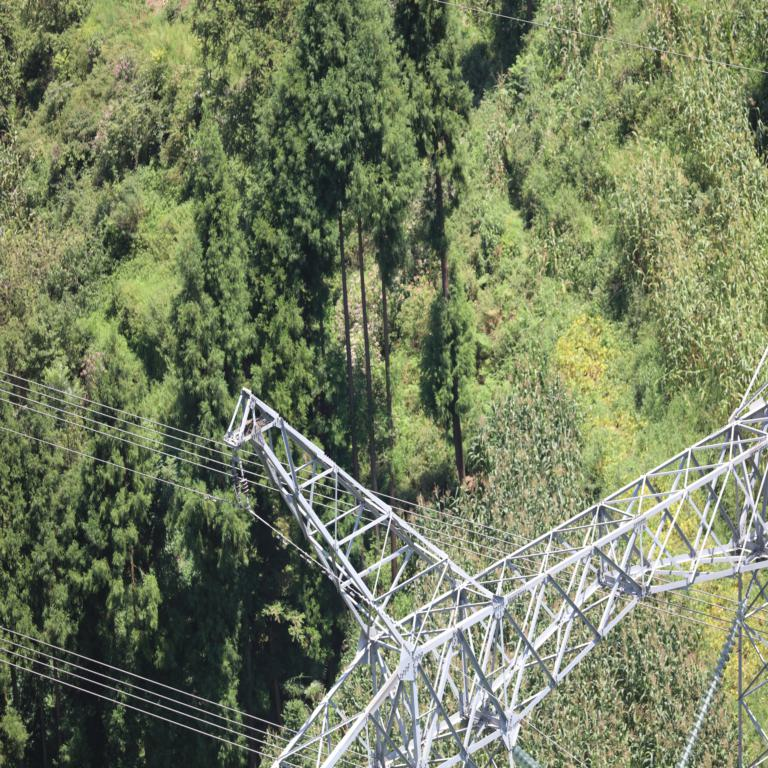nest: (241, 422, 267, 432)
